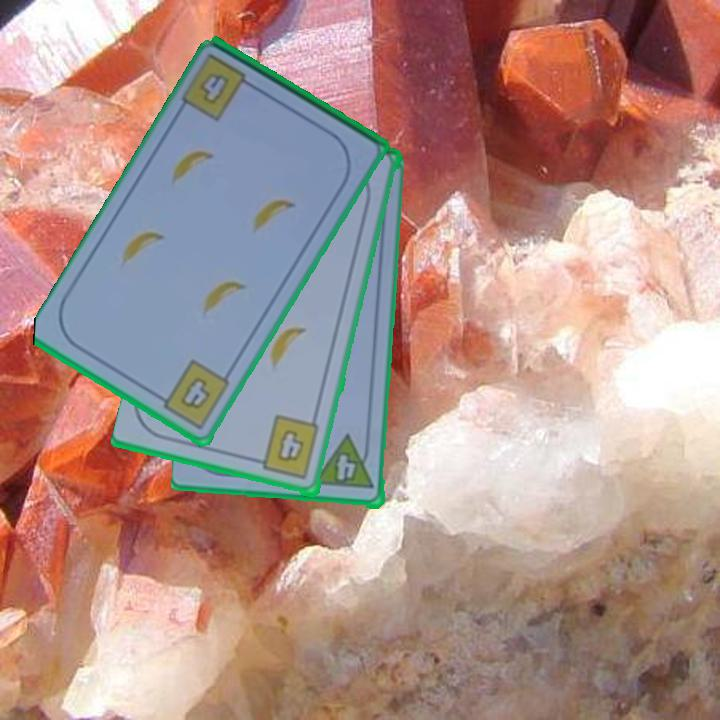4b: (152, 356, 233, 432), (251, 413, 323, 483), (196, 69, 233, 109)
4p: (312, 433, 377, 493)
